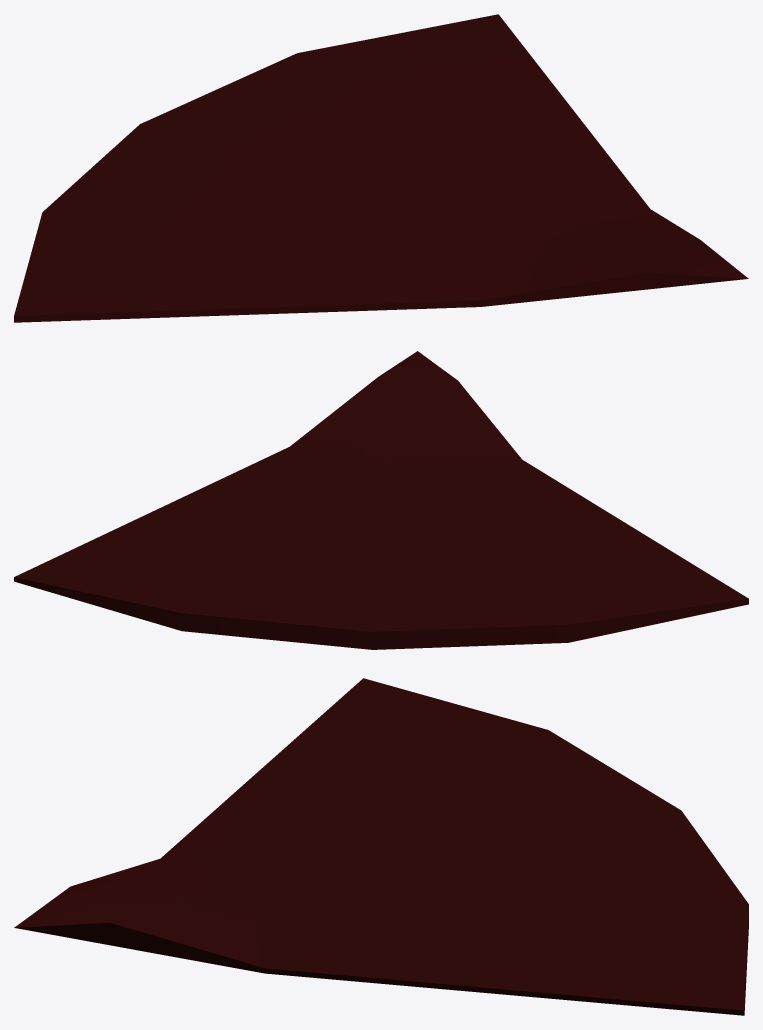
File: killblade.fbx
3 views of the same model, one above another, from view 1: azimuth 30°, elevation 25°; view 2: azimuth 150°, elevation 25°; view 3: azimuth 270°, elevation 25° (orthographic). The views are drawn at different scales.
Visible parts, largest first — view 1: l3_killBlade; view 2: l3_killBlade; view 3: l3_killBlade.
Part boxes in pixels (x1=…): l3_killBlade: x1=14, y1=14, x2=748, y2=322; l3_killBlade: x1=14, y1=351, x2=748, y2=649; l3_killBlade: x1=14, y1=678, x2=748, y2=1015.
Bounding box in the file's own units: 30.29 × 1.98 × 28.37.
